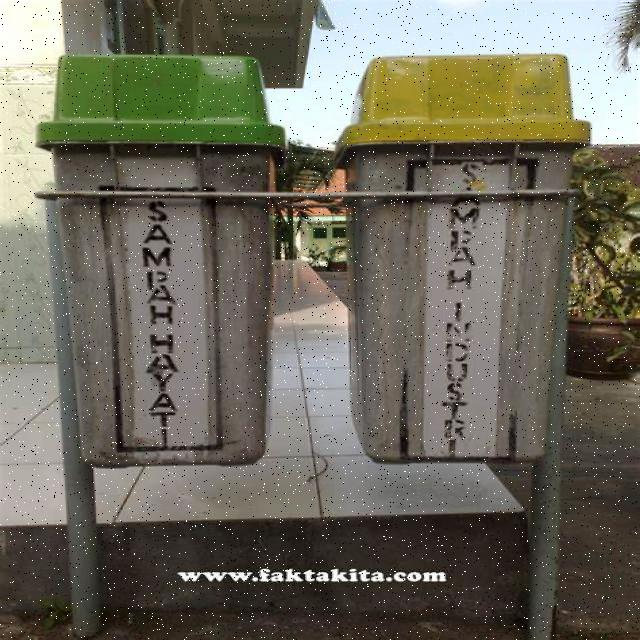garbage container: (0, 49, 321, 481), (350, 43, 640, 480)
